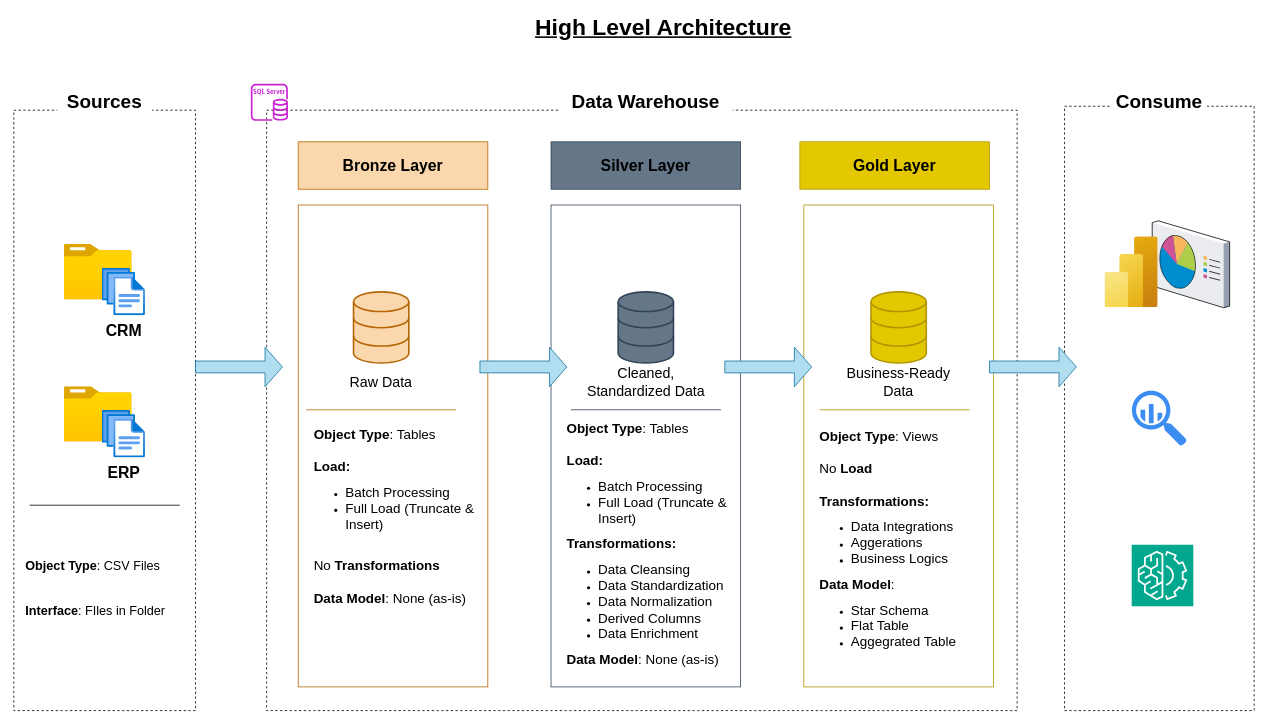
The diagram is 1268 pixels wide and 724 high, and some of its shapes have lost their labels. Each missing label, with the centre of its shape:
Ad-Hoc SQL Queries: the point at 1159,418
BI & Reporting: the point at 1131,271
Machine Learning: the point at 1162,575
SQL Server: the point at 269,101
